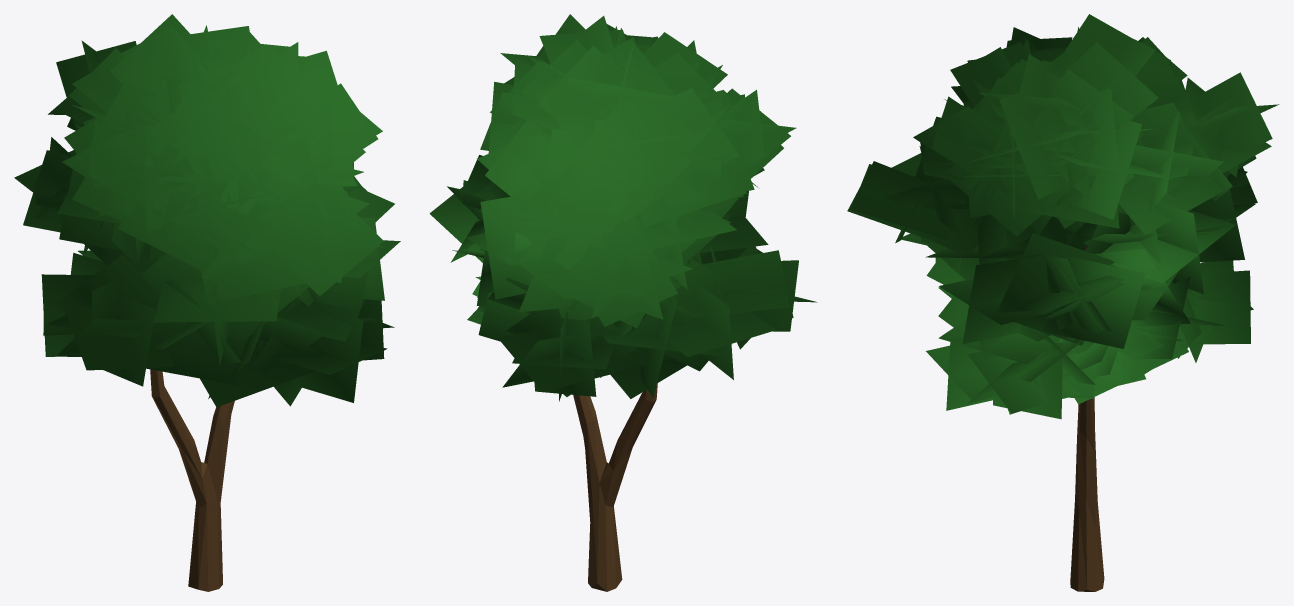
The model's file is SM_tree_03.fbx.
3 renders of one model, left to right at view 1: azimuth 30°, elevation 25°; view 2: azimuth 150°, elevation 25°; view 3: azimuth 270°, elevation 25°, orthographic. The views are drawn at different scales.
Parts seen in each view (by area): view 1: Object32446; view 2: Object32446; view 3: Object32446.
Part boxes in pixels (box(x1,y1,x2,y2)): Object32446: box(14, 14, 400, 591); Object32446: box(429, 14, 817, 591); Object32446: box(847, 14, 1279, 591).
Size of the model in its own units: 247 by 386 by 271.
